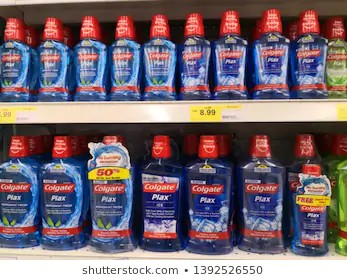colgate-Plax: (85, 135, 141, 255), (184, 132, 237, 252), (37, 134, 88, 255), (238, 136, 289, 256), (138, 135, 183, 254), (1, 135, 40, 242), (285, 8, 325, 97), (293, 162, 329, 255), (212, 8, 247, 102), (71, 18, 109, 101), (255, 10, 290, 96), (35, 18, 71, 101), (2, 14, 35, 101), (142, 13, 175, 100), (109, 17, 143, 98), (179, 14, 210, 96)
